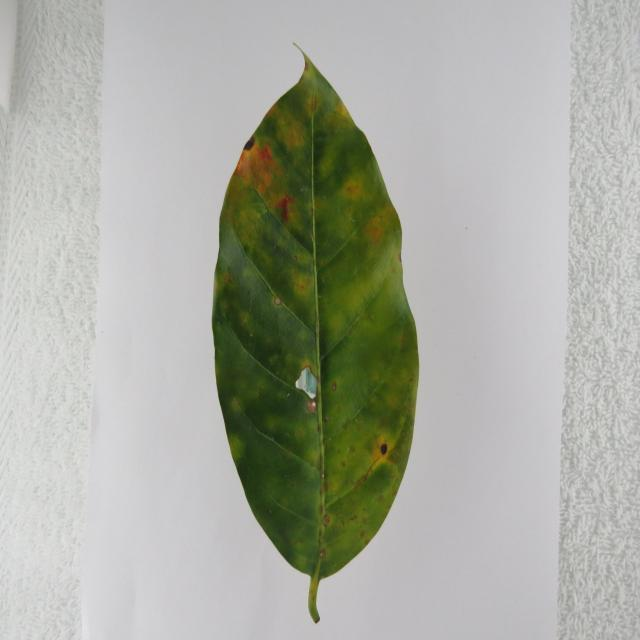DeficienciaNutricional-Fosforo: (212, 55, 419, 623)
